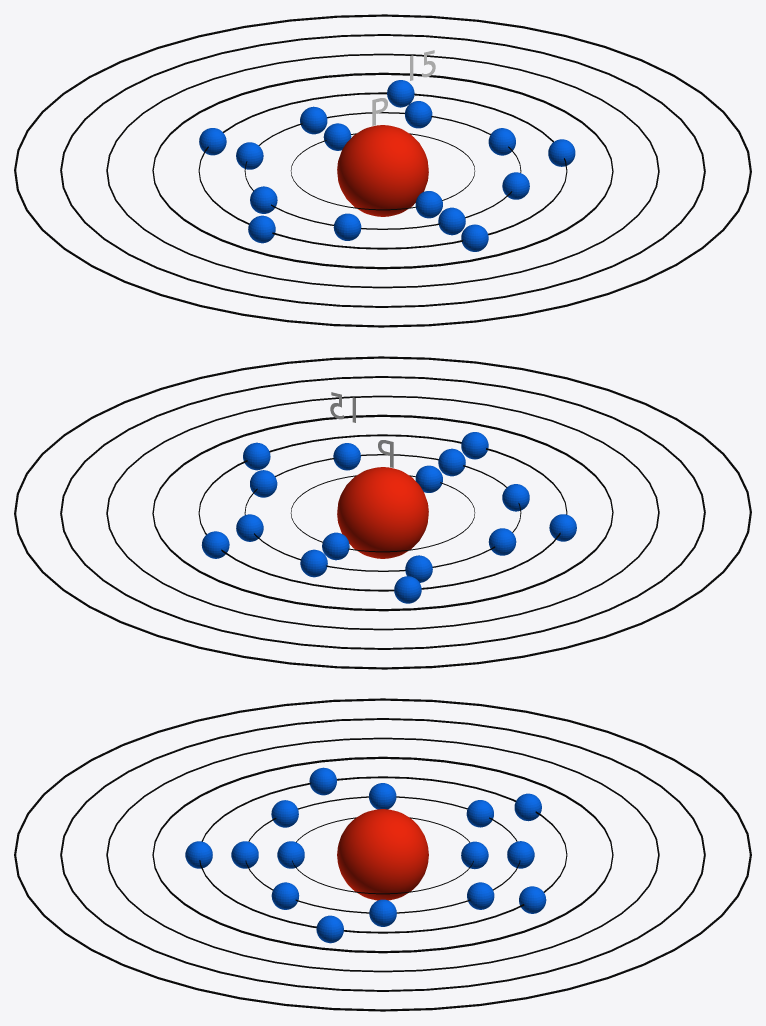
The picture shows the model from 3 angles, top to bottom: view 1: azimuth 30°, elevation 25°; view 2: azimuth 150°, elevation 25°; view 3: azimuth 270°, elevation 25°; orthographic projection.
Parts seen in each view (by area): view 1: Proton, P2, n7, n6, P3, n5, n4, n3, P1, n2; view 2: Proton, P2, n7, n6, P3, n5, n4, n3, P1, n2; view 3: Proton, P2, n7, n6, P3, n5, n4, n3, P1, n2, n1.
Boxes of the visible parts, x1=… form: Proton: x1=337, y1=125, x2=428, y2=216; P2: x1=236, y1=101, x2=529, y2=240; n7: x1=14, y1=14, x2=751, y2=327; n6: x1=60, y1=34, x2=705, y2=307; P3: x1=199, y1=80, x2=575, y2=251; n5: x1=106, y1=53, x2=659, y2=288; n4: x1=152, y1=72, x2=613, y2=269; n3: x1=198, y1=92, x2=567, y2=249; P1: x1=323, y1=123, x2=442, y2=218; n2: x1=244, y1=112, x2=521, y2=229; Proton: x1=337, y1=467, x2=428, y2=558; P2: x1=236, y1=443, x2=529, y2=582; n7: x1=14, y1=356, x2=751, y2=669; n6: x1=60, y1=376, x2=705, y2=649; P3: x1=201, y1=432, x2=576, y2=603; n5: x1=106, y1=395, x2=659, y2=630; n4: x1=152, y1=414, x2=613, y2=611; n3: x1=198, y1=434, x2=567, y2=591; P1: x1=322, y1=465, x2=442, y2=560; n2: x1=244, y1=454, x2=521, y2=571; Proton: x1=337, y1=809, x2=428, y2=900; P2: x1=231, y1=783, x2=534, y2=926; n7: x1=14, y1=698, x2=751, y2=1011; n6: x1=60, y1=718, x2=705, y2=991; P3: x1=185, y1=767, x2=546, y2=943; n5: x1=106, y1=737, x2=659, y2=972; n4: x1=152, y1=756, x2=613, y2=953; n3: x1=199, y1=776, x2=567, y2=933; P1: x1=277, y1=841, x2=488, y2=869; n2: x1=245, y1=796, x2=520, y2=913; n1: x1=292, y1=817, x2=473, y2=894.
Bounding box in the file's own units: 802 × 180 × 802.
